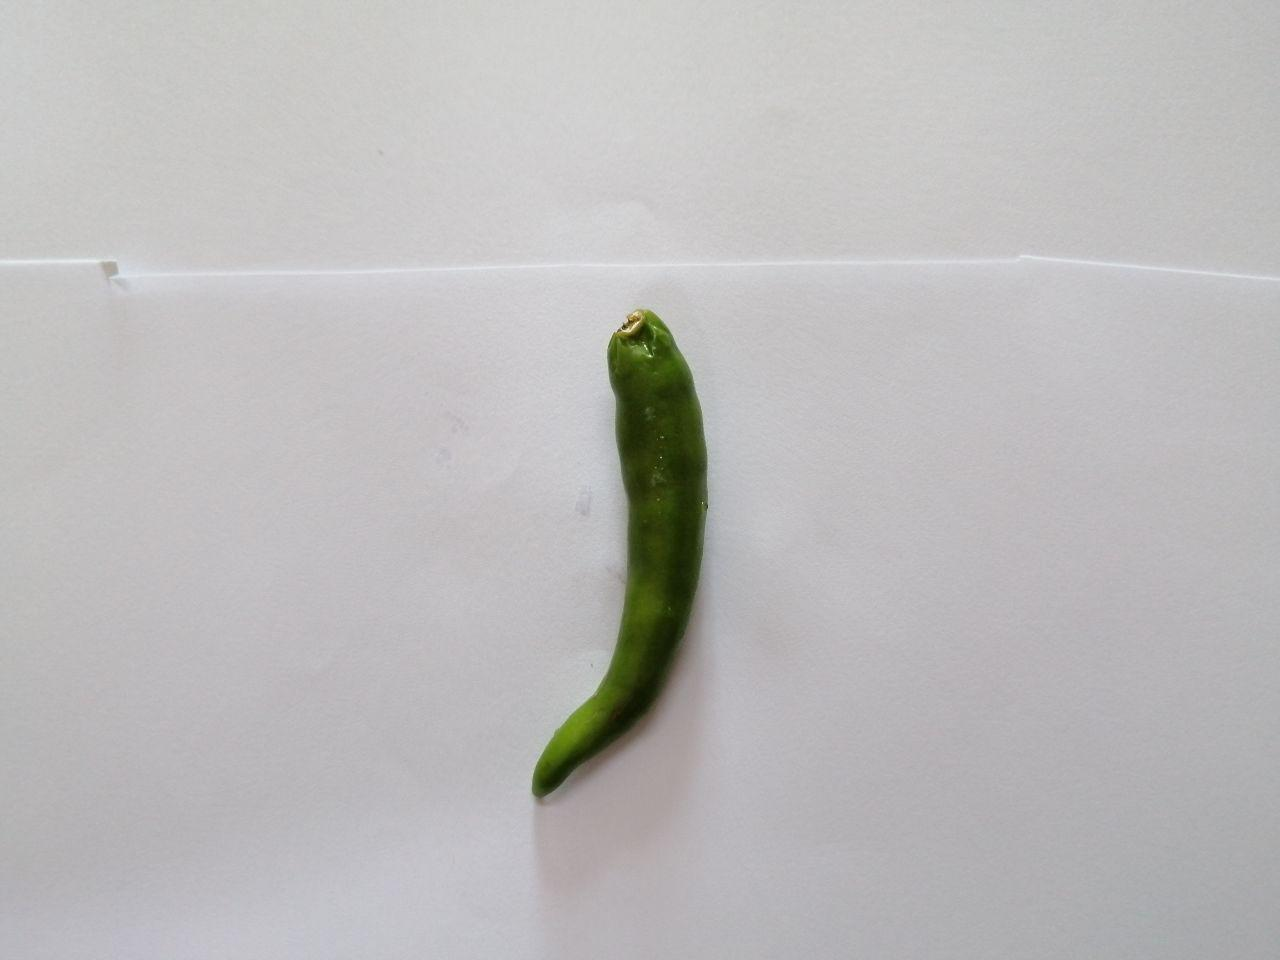lada hijau: (528, 302, 722, 817)
